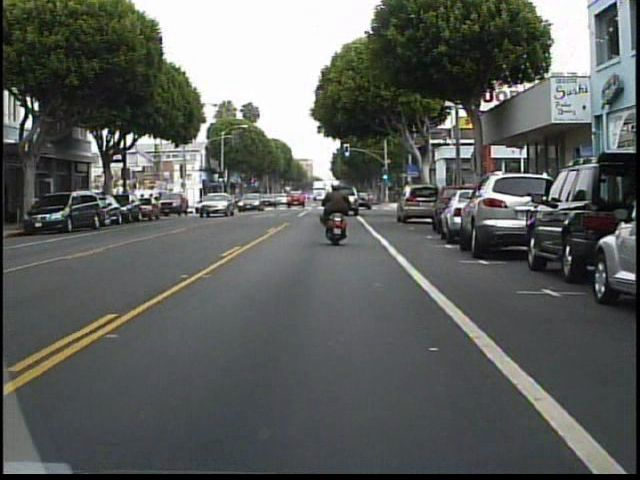person: (320, 176, 358, 246)
